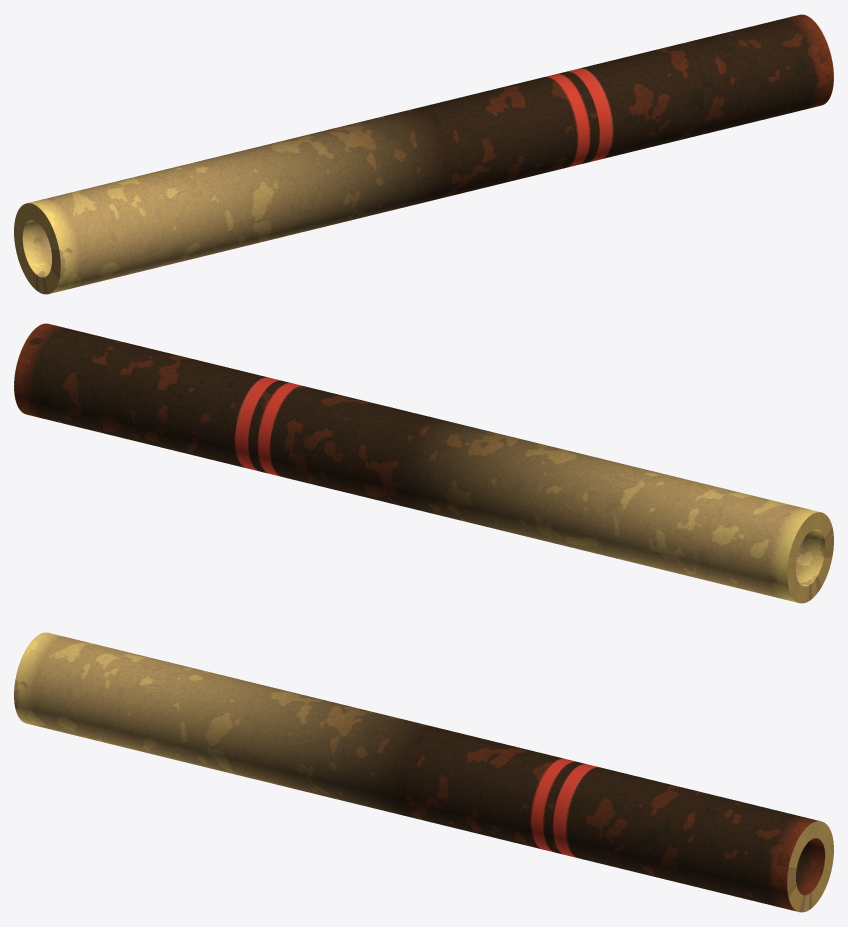
The model's file is Hihip.fbx.
The picture shows the model from 3 angles, top to bottom: view 1: azimuth 30°, elevation 25°; view 2: azimuth 150°, elevation 25°; view 3: azimuth 330°, elevation 25°; orthographic projection.
Visible parts, largest first — view 1: Cylinder.001; view 2: Cylinder.001; view 3: Cylinder.001.
Part boxes in pixels (box(x1,y1,x2,y2)): Cylinder.001: box(14, 14, 833, 294); Cylinder.001: box(14, 323, 833, 603); Cylinder.001: box(14, 632, 833, 912).
Bounding box in the file's own units: 154 × 16.17 × 16.17.
1 material, 1 textured.
